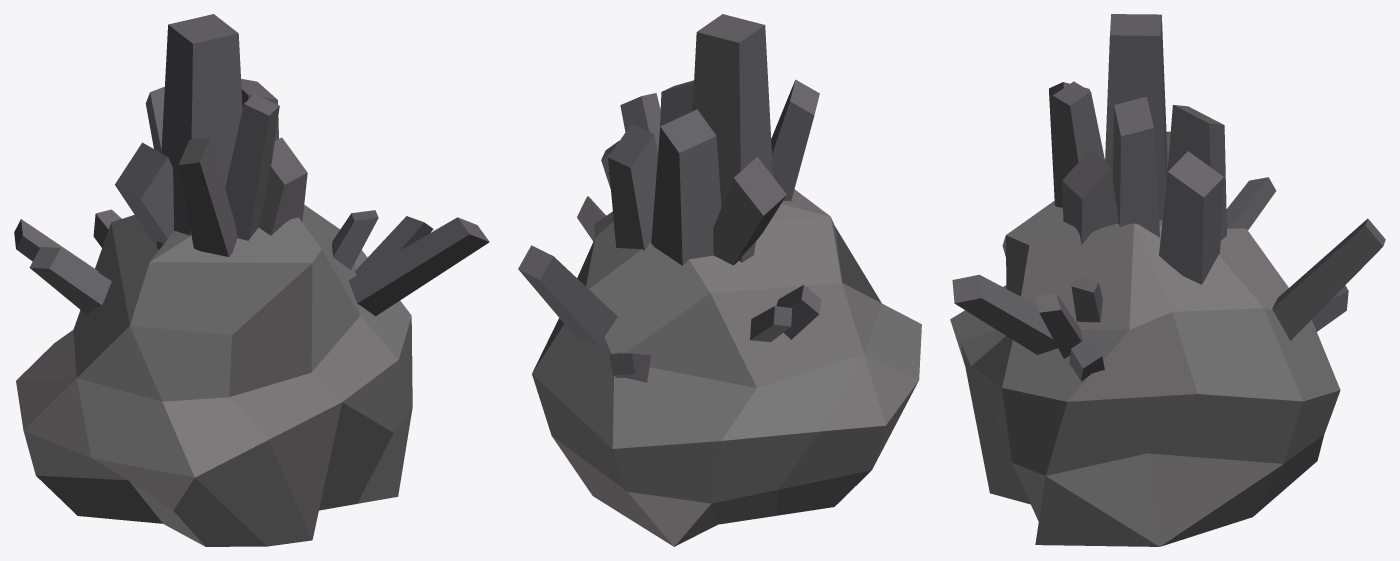
File: mesh_node_stone.fbx
3 views of the same model, side by side, from view 1: azimuth 30°, elevation 25°; view 2: azimuth 150°, elevation 25°; view 3: azimuth 270°, elevation 25° (orthographic). The views are drawn at different scales.
Parts seen in each view (by area): view 1: mesh_node_stone; view 2: mesh_node_stone; view 3: mesh_node_stone.
Boxes of the visible parts, x1,y1,x2,y2 form: mesh_node_stone: (14, 14, 489, 546); mesh_node_stone: (518, 14, 921, 546); mesh_node_stone: (950, 14, 1385, 546).
Size of the model in its own units: 157 by 190 by 166.
